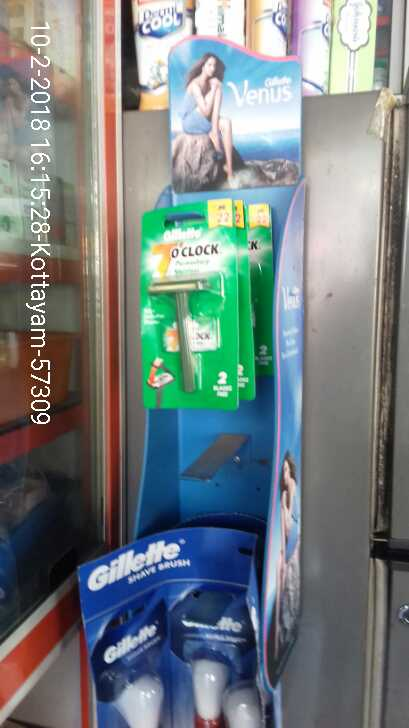gillette: (142, 204, 273, 413)
